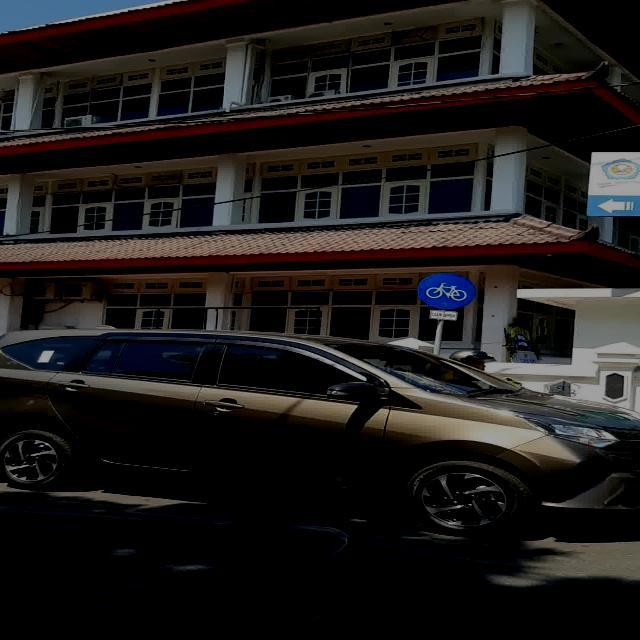Jalur Sepeda: (418, 272, 476, 310)
